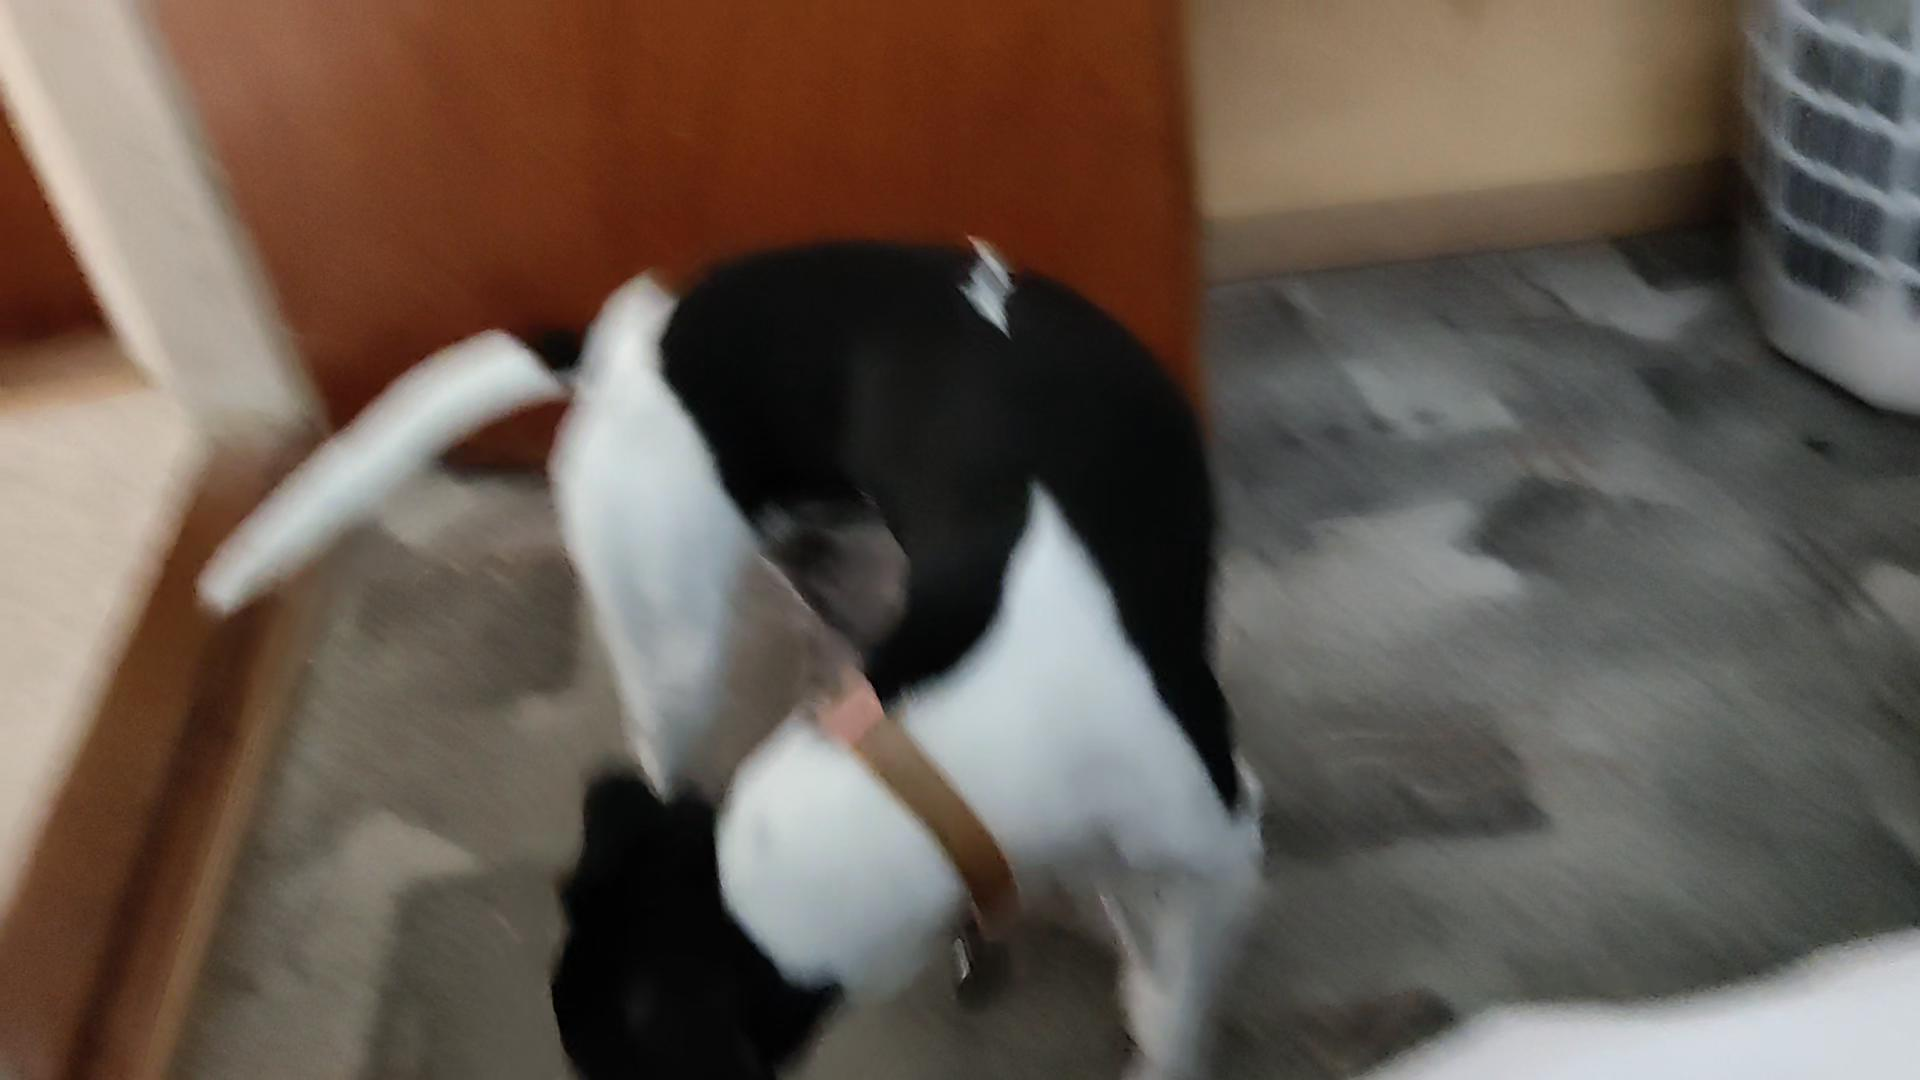Dog: (187, 207, 1282, 1079)
